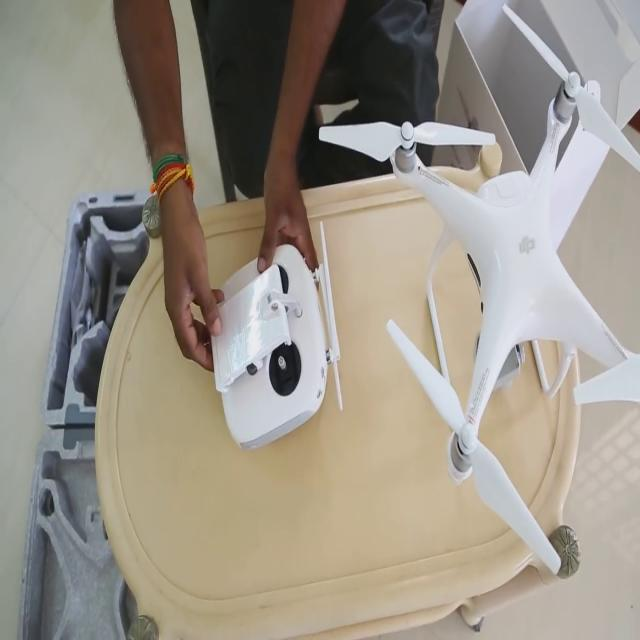drone: (319, 21, 640, 583)
